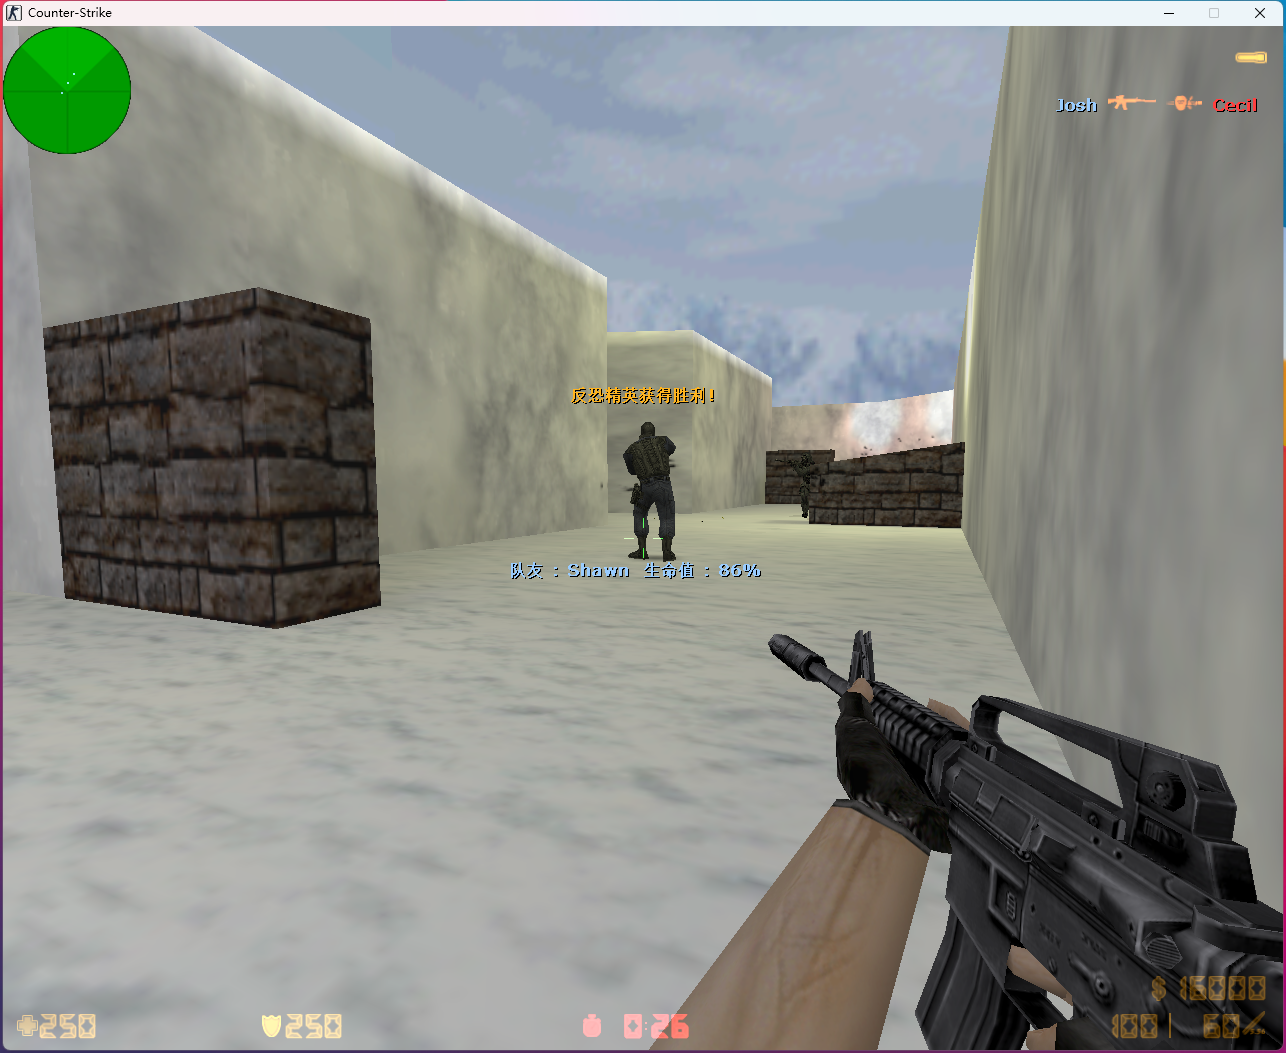C: (617, 420, 683, 563), (795, 451, 814, 523)
